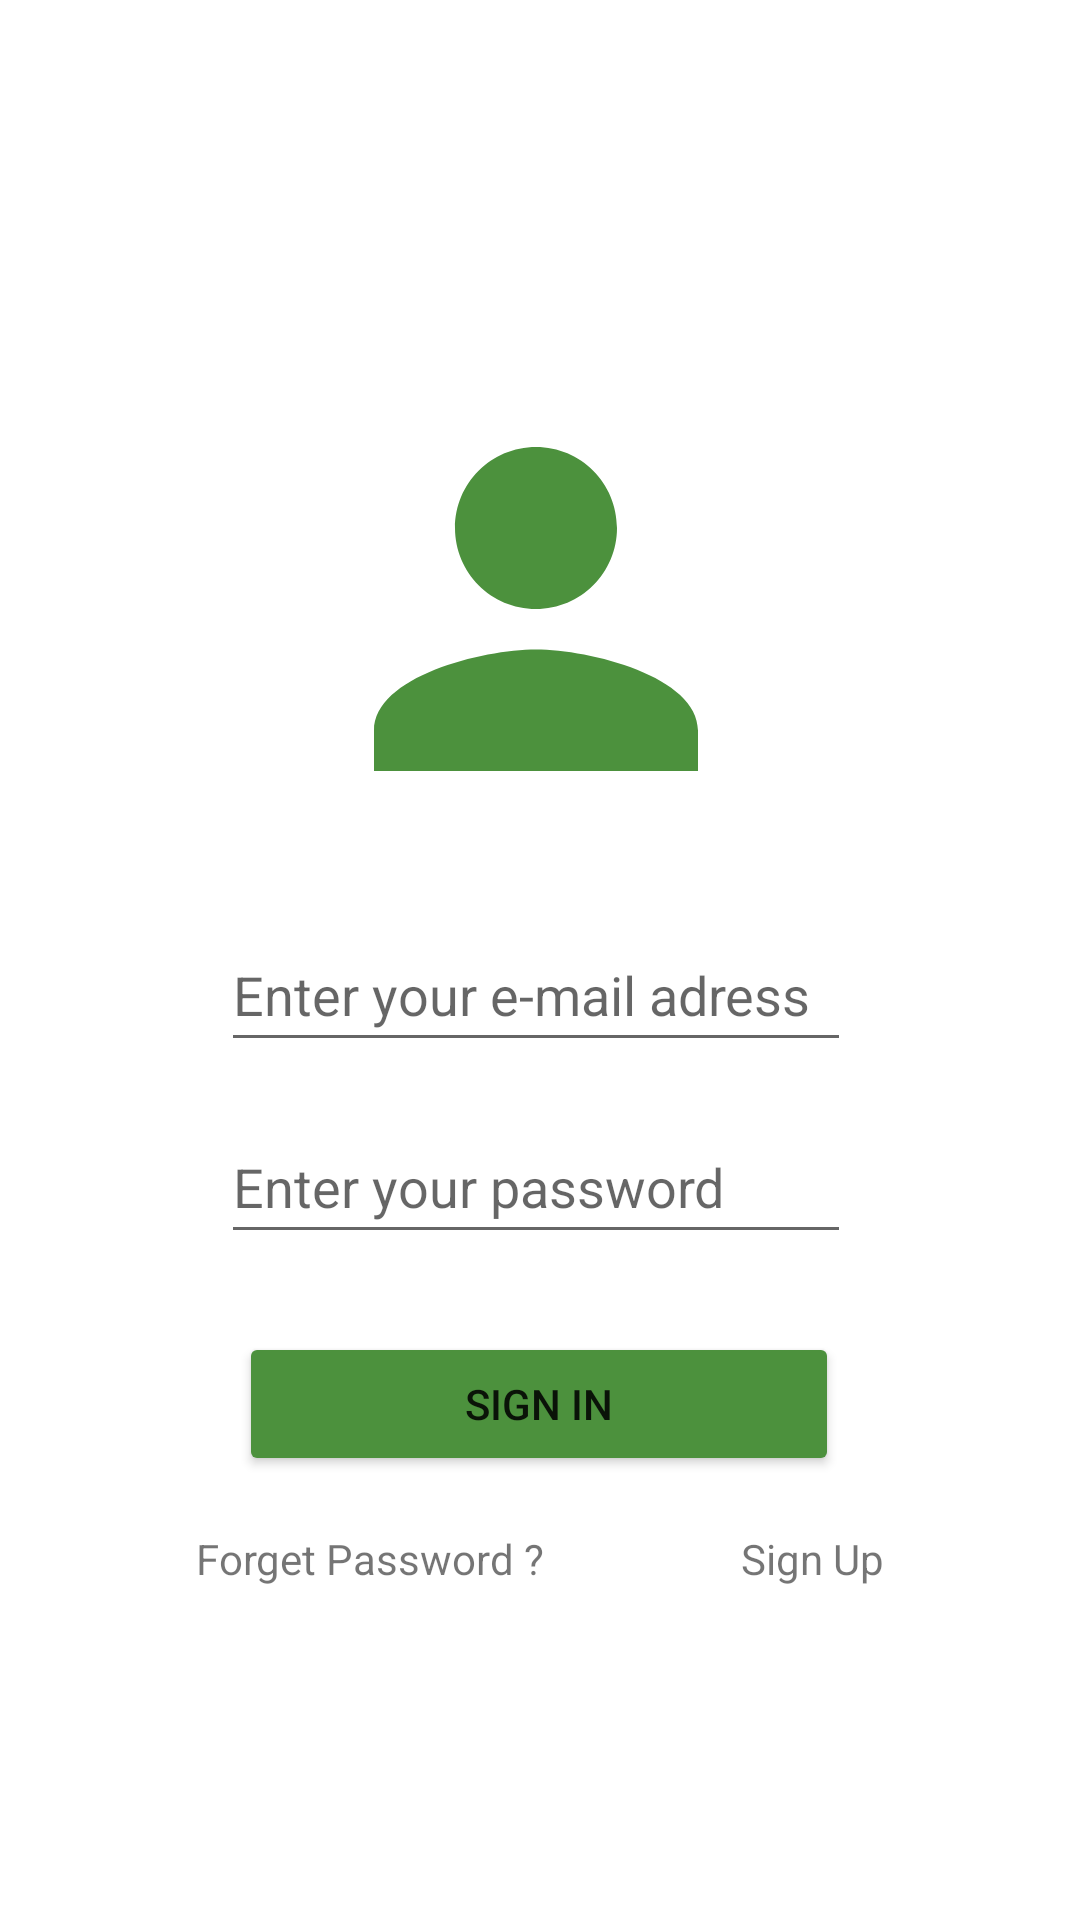

Icons on this 1080w x 1920h Android screen, each with its box as (x1, y1, x2, y2):
personimage: (374, 447, 698, 771)
